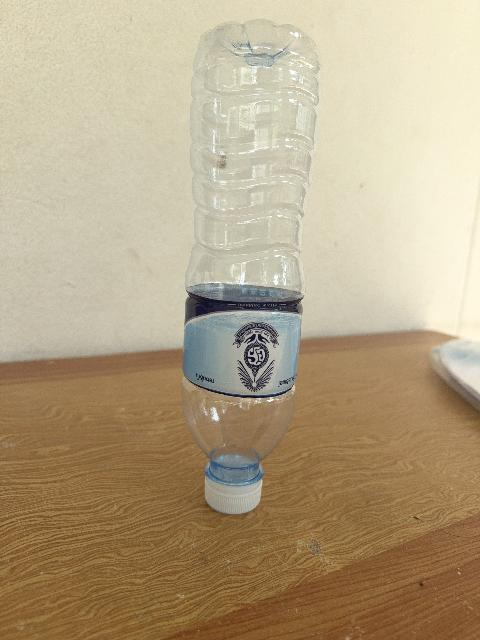bottle: (182, 20, 319, 513)
